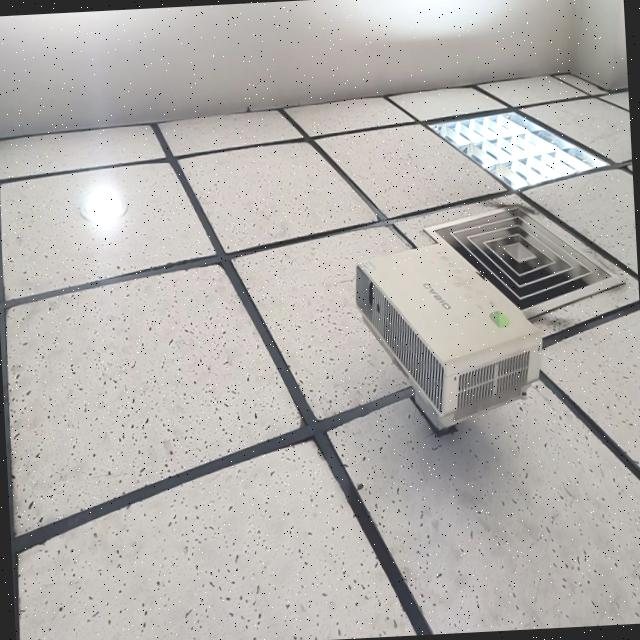Light: (431, 112, 605, 190), (84, 195, 123, 220)
Projector: (356, 243, 542, 430)
